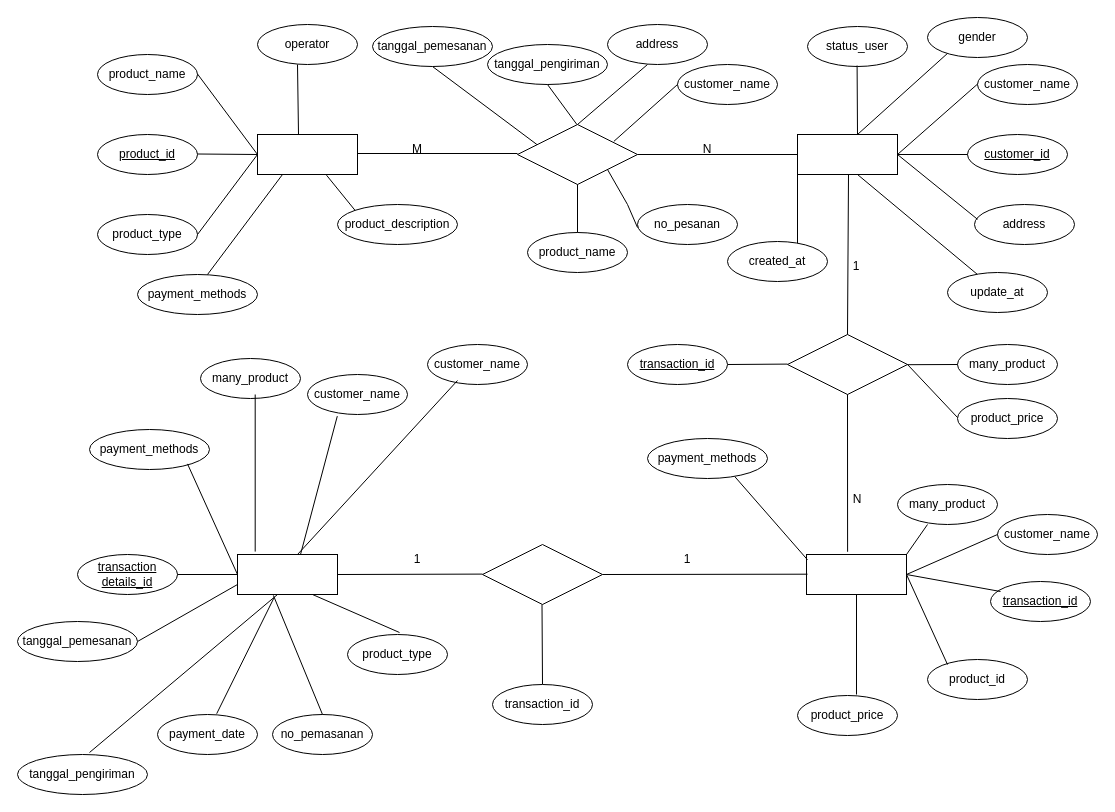
This 1115x812 diagram has some shape labels left out. The shapes that lost their labels are listed below. From the top down, each one's centre as x and y in pixels, then its label:
At [307,154]: "product".
At [577,154]: "pesan".
At [847,154]: "customer".
At [847,364]: "pembayaran".
At [287,574]: "transaksi_details".
At [542,574]: "verifikasi".
At [856,574]: "transaksi".
